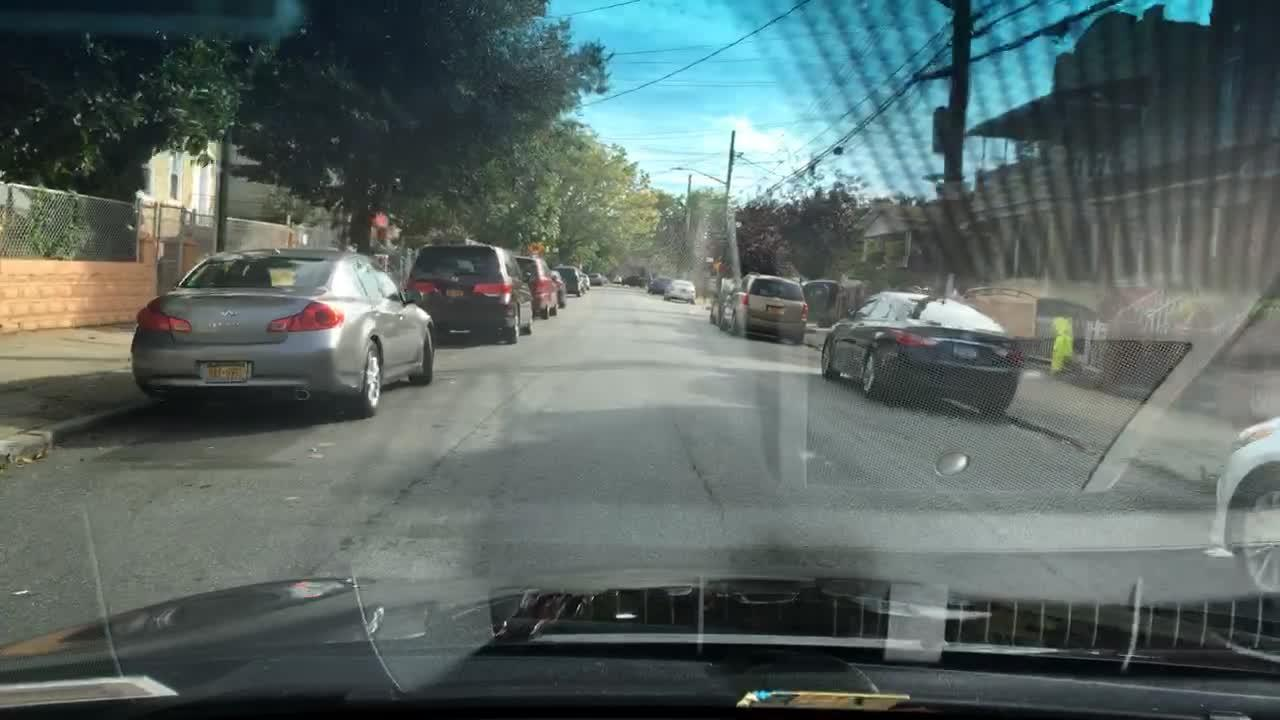Infiniti: (207, 301, 256, 330)
